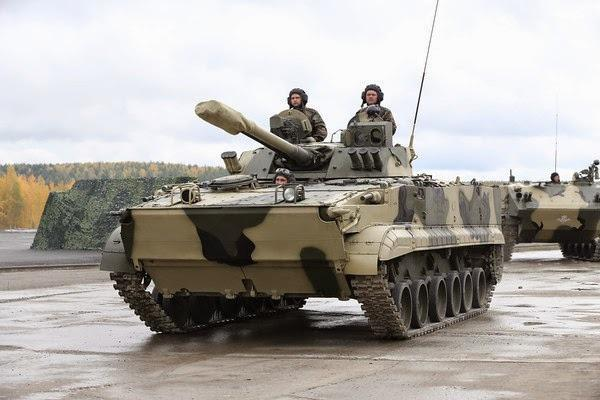MIL_IFV: (101, 80, 505, 345)
